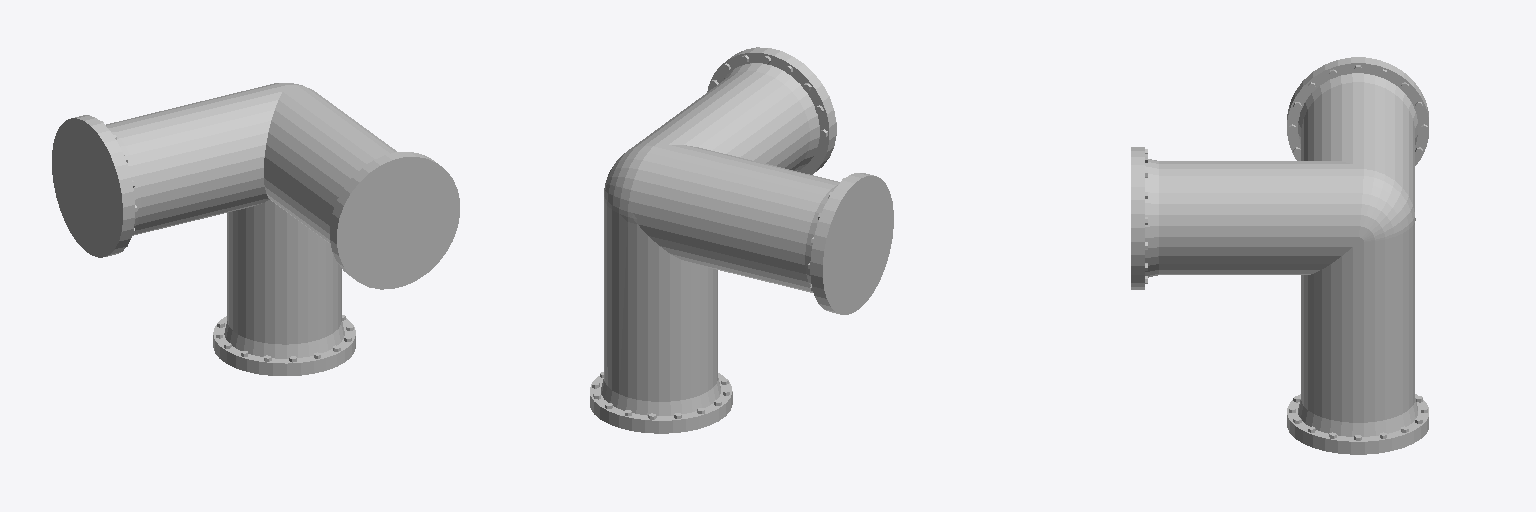
The model's file is pipeworks_pipe_5.obj.
3 views of the same model, side by side, from view 1: azimuth 30°, elevation 25°; view 2: azimuth 150°, elevation 25°; view 3: azimuth 270°, elevation 25° (orthographic).
Parts seen in each view (by area): view 1: Pipe_Cylinder.002; view 2: Pipe_Cylinder.002; view 3: Pipe_Cylinder.002.
Part boxes in pixels (x1,y1,x2,y2): Pipe_Cylinder.002: (52, 83, 459, 375); Pipe_Cylinder.002: (590, 47, 893, 433); Pipe_Cylinder.002: (1131, 57, 1428, 454).
Size of the model in its own units: 0.6562 by 0.6562 by 0.6562.